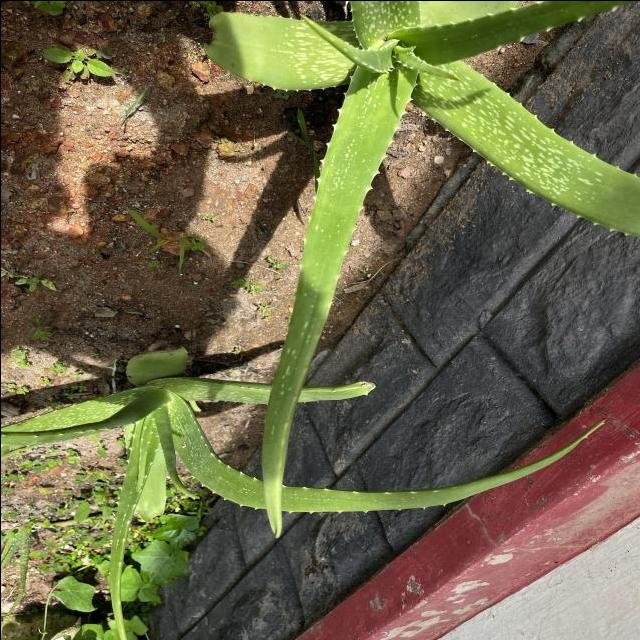Aloe vera: (256, 56, 414, 542)
